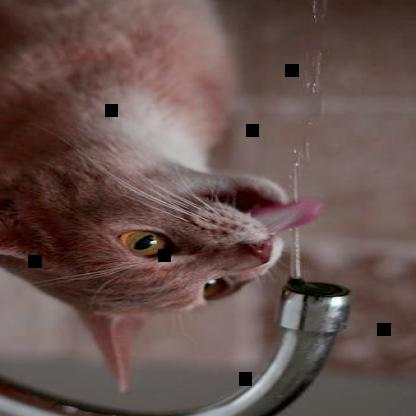cat: (0, 0, 326, 394)
